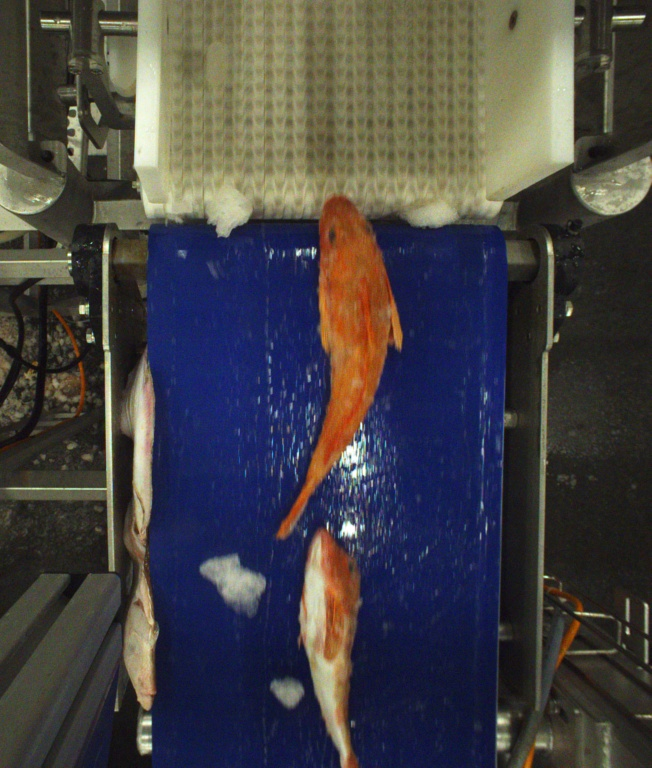GUU: (299, 527, 361, 768)
